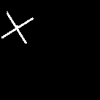single_crochet: (2, 12, 32, 42)
